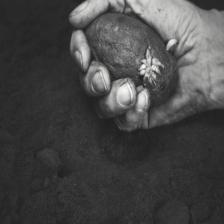Sprouted potato: (86, 14, 182, 112)
